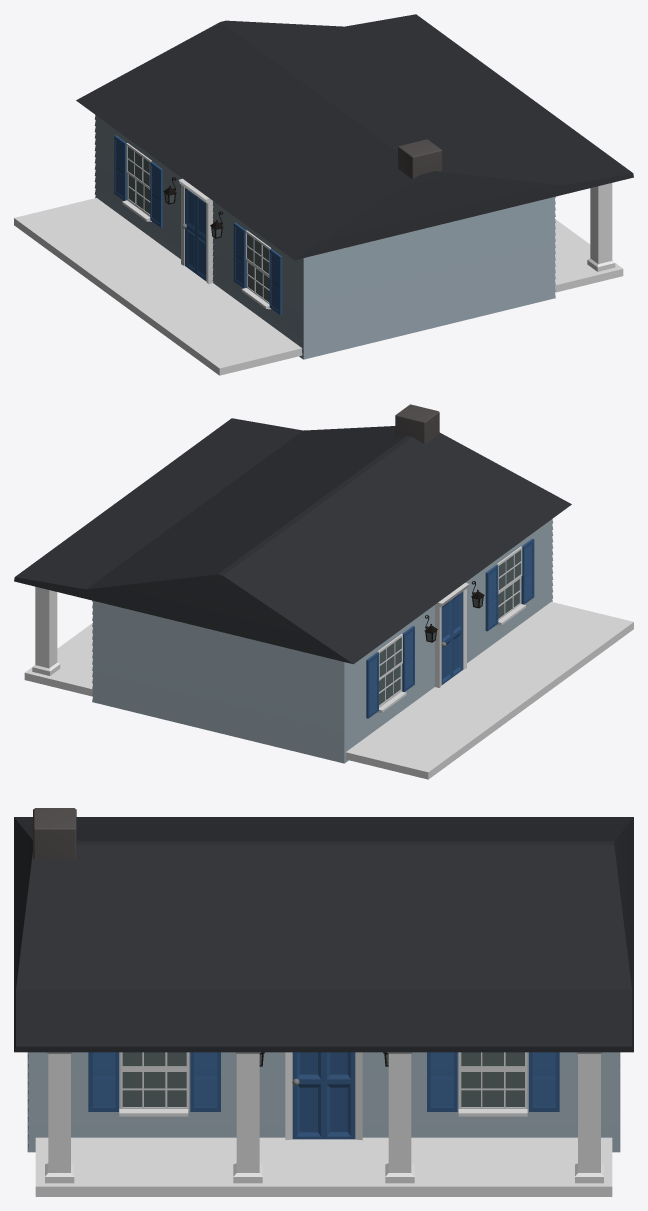
File: bubbles_house.fbx
The picture shows the model from 3 angles, top to bottom: view 1: azimuth 30°, elevation 25°; view 2: azimuth 150°, elevation 25°; view 3: azimuth 270°, elevation 25°; orthographic projection. The views are drawn at different scales.
Visible parts, largest first — view 1: new_base, back_door_stoop, front_door_stoop, pillar1, front_door, window_panel_r (×2), window_panel_l (×2), chimney1, front_door_frame, window_glass1 (×2), window_glass (×2); view 2: new_base, back_door_stoop, front_door_stoop, pillar2, front_door, window_panel_l (×2), window_panel_r (×2), chimney1, front_door_frame, window_glass (×2), window_glass1; view 3: new_base, front_door_stoop, front_door, window_glass1 (×2), window_panel_r (×2), window_panel_l (×2), pillar3, pillar4, pillar1, pillar2, chimney1, window_glass (×2) (+4 smaller).
Boxes of the visible parts, bbox=[...] form: new_base: bbox=[76, 14, 633, 359]; back_door_stoop: bbox=[14, 198, 302, 375]; front_door_stoop: bbox=[555, 219, 623, 292]; pillar1: bbox=[587, 183, 615, 271]; front_door: bbox=[185, 188, 206, 280]; window_panel_r (×2): bbox=[150, 161, 282, 315]; window_panel_l (×2): bbox=[114, 135, 246, 288]; chimney1: bbox=[398, 139, 442, 178]; front_door_frame: bbox=[178, 178, 213, 284]; window_glass1 (×2): bbox=[128, 175, 269, 302]; window_glass (×2): bbox=[127, 147, 268, 273]; new_base: bbox=[14, 418, 571, 763]; back_door_stoop: bbox=[345, 602, 633, 779]; front_door_stoop: bbox=[24, 623, 92, 696]; pillar2: bbox=[32, 586, 60, 675]; front_door: bbox=[441, 591, 462, 684]; window_panel_l (×2): bbox=[366, 565, 498, 718]; window_panel_r (×2): bbox=[402, 538, 534, 691]; chimney1: bbox=[395, 404, 439, 443]; front_door_frame: bbox=[434, 582, 469, 687]; window_glass (×2): bbox=[379, 550, 520, 677]; window_glass1: bbox=[498, 579, 519, 618]; new_base: bbox=[14, 817, 633, 1152]; front_door_stoop: bbox=[35, 1137, 612, 1196]; front_door: bbox=[292, 1052, 355, 1139]; window_glass1 (×2): bbox=[122, 1072, 524, 1106]; window_panel_r (×2): bbox=[190, 1052, 559, 1111]; window_panel_l (×2): bbox=[88, 1052, 457, 1111]; pillar3: bbox=[385, 1052, 414, 1183]; pillar4: bbox=[233, 1052, 262, 1183]; pillar1: bbox=[45, 1052, 74, 1183]; pillar2: bbox=[575, 1052, 603, 1183]; chimney1: bbox=[33, 808, 76, 859]; window_glass (×2): bbox=[122, 1052, 524, 1066].
Size of the model in its own units: 58.72 by 23.96 by 54.47.
